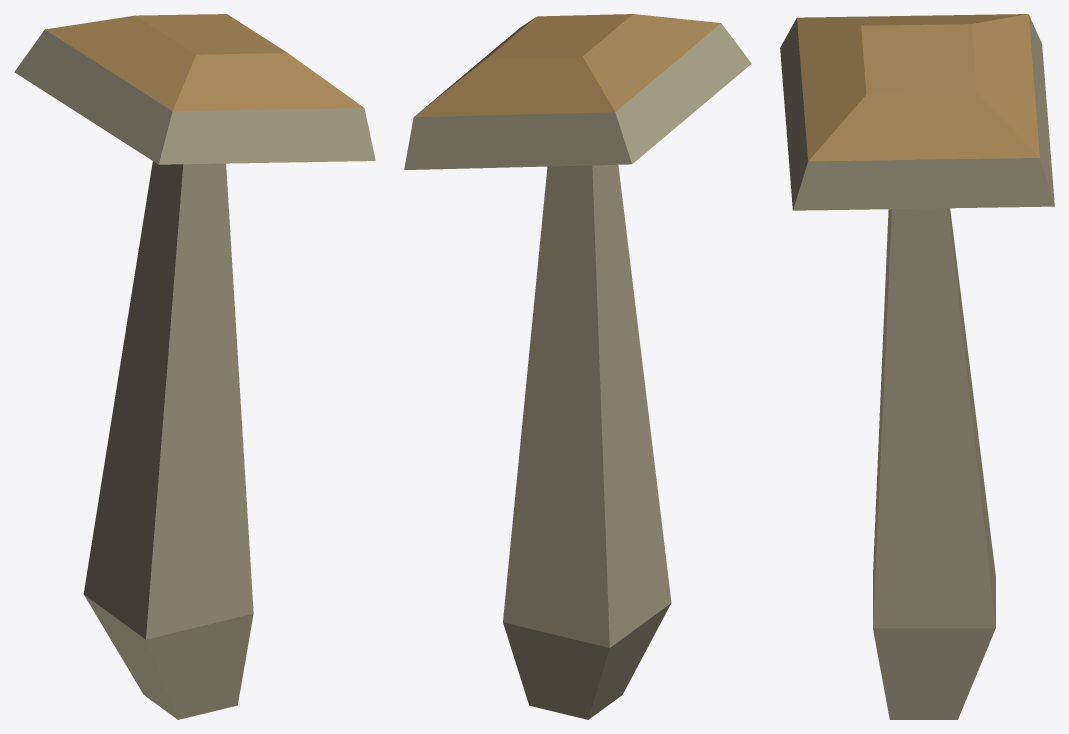
Rendered from mushroom04.fbx.
3 views of the same model, side by side, from view 1: azimuth 30°, elevation 25°; view 2: azimuth 150°, elevation 25°; view 3: azimuth 270°, elevation 25° (orthographic).
Visible parts, largest first — view 1: mushroom04; view 2: mushroom04; view 3: mushroom04.
Part boxes in pixels (bbox=[...]): mushroom04: bbox=[14, 14, 375, 719]; mushroom04: bbox=[404, 14, 751, 719]; mushroom04: bbox=[780, 14, 1054, 719].
Bounding box in the file's own units: 3.59 × 9.84 × 3.67.
Materials: 1 (1 with a texture image).
